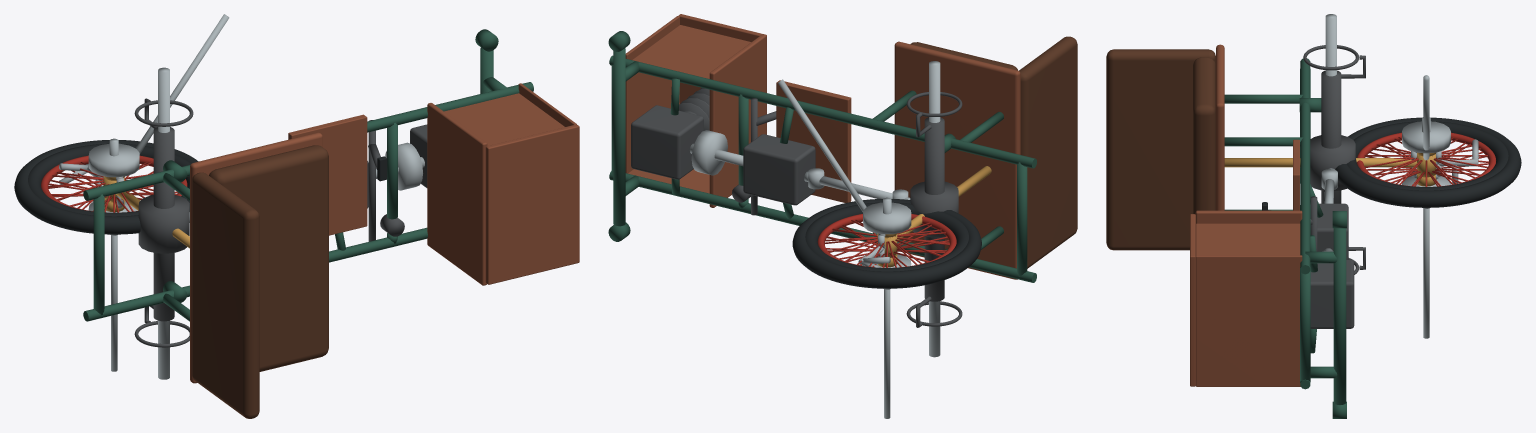
Rendered from car.glb.
3 renders of one model, left to right at view 1: azimuth 30°, elevation 25°; view 2: azimuth 150°, elevation 25°; view 3: azimuth 270°, elevation 25°, orthographic. The views are drawn at different scales.
Parts seen in each view (by area): view 1: chassis|191, chassis|192, chassis|197, chassis|194, chassis|193, chassis|196, rear_left|39, chassis|1, chassis|7, chassis|8, chassis|190, chassis|0 (+12 smaller); view 2: chassis|190, chassis|192, chassis|194, rear_left|39, chassis|193, chassis|167, chassis|155, chassis|1, chassis|196, chassis|0, chassis|198, front_left|70 (+18 smaller); view 3: chassis|192, chassis|198, rear_left|39, chassis|191, chassis|196, front_left|70, chassis|14, chassis|1, chassis|155, chassis|7, chassis|194, chassis|190 (+14 smaller).
Boxes of the visible parts, left/top/right/bottom form: chassis|191: left=209, top=145, right=328, bottom=371; chassis|192: left=192, top=172, right=259, bottom=418; chassis|197: left=485, top=124, right=579, bottom=284; chassis|194: left=427, top=103, right=487, bottom=285; chassis|193: left=288, top=114, right=367, bottom=235; chassis|196: left=444, top=93, right=564, bottom=145; rear_left|39: left=14, top=140, right=198, bottom=234; chassis|1: left=83, top=82, right=533, bottom=200; chassis|7: left=153, top=127, right=174, bottom=321; chassis|8: left=138, top=195, right=189, bottom=253; chassis|190: left=190, top=132, right=322, bottom=383; chassis|0: left=83, top=227, right=427, bottom=321; chassis|190: left=894, top=41, right=1020, bottom=279; chassis|192: left=1019, top=36, right=1077, bottom=268; chassis|194: left=709, top=34, right=766, bottom=207; rear_left|39: left=792, top=199, right=981, bottom=288; chassis|193: left=776, top=80, right=851, bottom=202; chassis|167: left=743, top=134, right=815, bottom=205; chassis|155: left=631, top=105, right=703, bottom=179; chassis|1: left=609, top=55, right=1036, bottom=168; chassis|196: left=632, top=25, right=751, bottom=78; chassis|0: left=609, top=171, right=1036, bottom=282; chassis|198: left=625, top=16, right=679, bottom=173; front_left|70: left=805, top=202, right=968, bottom=271; chassis|192: left=1106, top=49, right=1215, bottom=250; chassis|198: left=1195, top=255, right=1302, bottom=386; rear_left|39: left=1335, top=117, right=1521, bottom=207; chassis|191: left=1193, top=57, right=1215, bottom=214; chassis|196: left=1195, top=223, right=1300, bottom=255; front_left|70: left=1346, top=121, right=1508, bottom=190; chassis|14: left=1333, top=228, right=1346, bottom=404; chassis|1: left=1300, top=58, right=1310, bottom=274; chassis|155: left=1310, top=259, right=1354, bottom=328; chassis|7: left=1321, top=70, right=1341, bottom=203; chassis|194: left=1195, top=210, right=1302, bottom=223; chassis|190: left=1216, top=44, right=1224, bottom=210.
Size of the model in its own units: 1.7 by 1.23 by 1.44.
